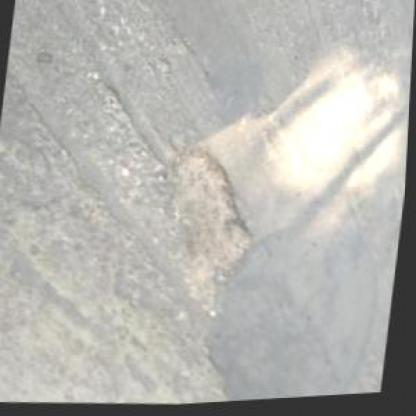pothole: (151, 148, 266, 324)
